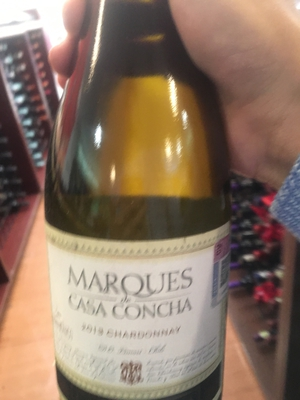marques de casa concha chardonnay: (34, 13, 235, 400)
